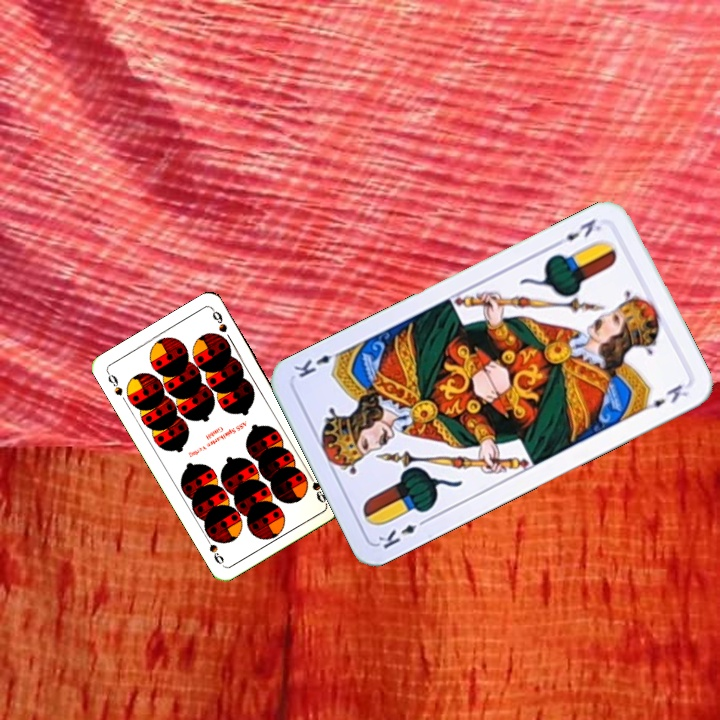EK: (374, 514, 431, 552), (550, 214, 604, 250)
S9: (303, 468, 329, 506), (103, 368, 125, 398)
